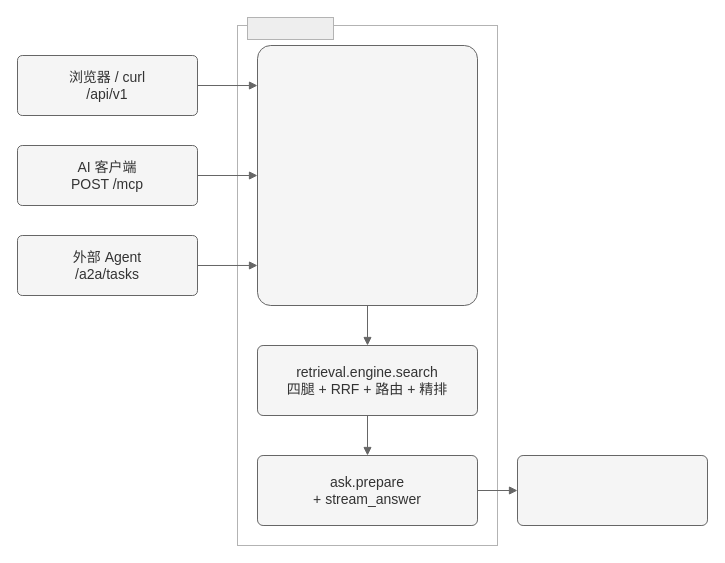
The diagram is 725 pixels wide and 563 high, and some of its shapes have lost their labels. Here are the shapes that lost their labels. From the top down, the centre of each, then its label:
(290,28): 共用内核
(367,175): auth UserContext
(612,490): 生成器（外部 HTTP） extractive / openai_compat
